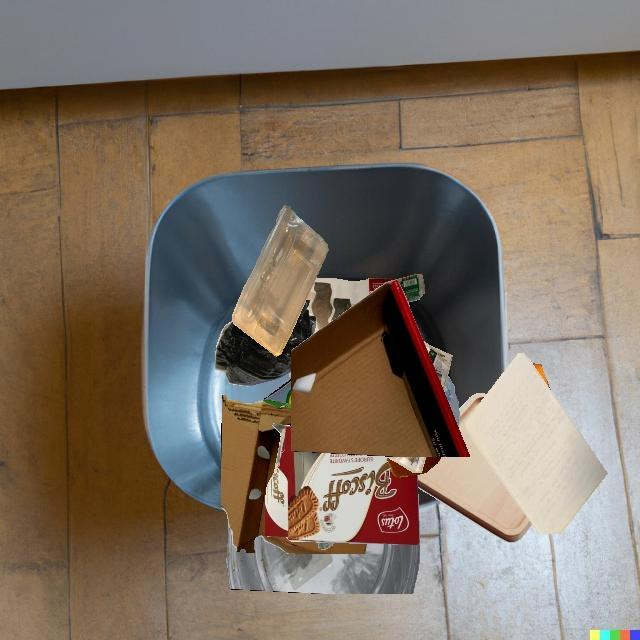biowaste: (387, 457, 421, 477), (532, 363, 550, 390), (422, 457, 441, 473)
cardboard: (291, 279, 470, 457), (221, 395, 367, 554), (265, 424, 420, 545)
combustible waste: (417, 393, 532, 542)
paper: (465, 353, 607, 534), (306, 278, 400, 335), (423, 341, 452, 392), (385, 456, 426, 473)
plastic: (232, 205, 328, 356), (227, 525, 420, 594), (215, 300, 317, 386), (444, 375, 460, 427), (396, 274, 425, 300), (369, 283, 406, 297), (316, 542, 334, 549)
trash: (263, 379, 291, 404)
